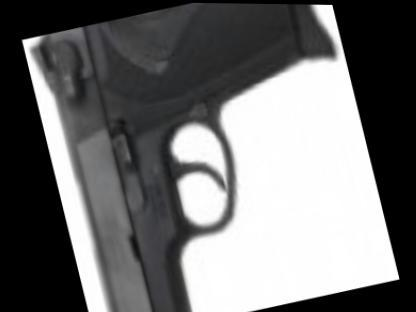pistol: (23, 0, 392, 311)
